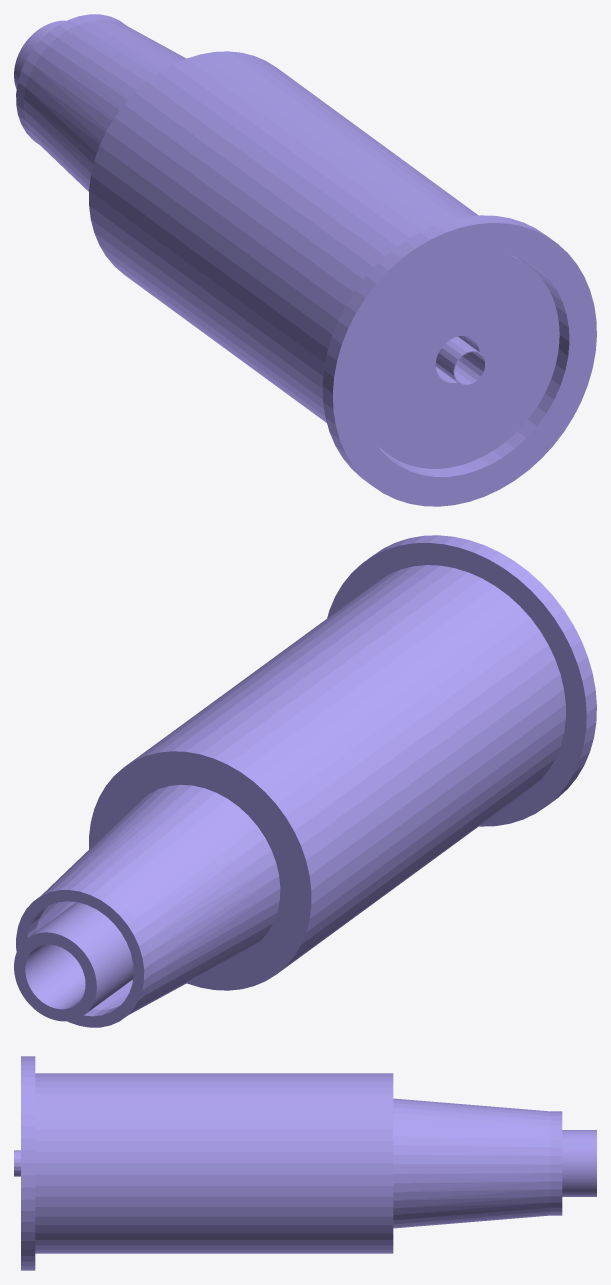
The model's file is Lar-FCAL-SideA.glb.
3 renders of one model, top to bottom at view 1: azimuth 30°, elevation 25°; view 2: azimuth 150°, elevation 25°; view 3: azimuth 270°, elevation 25°, orthographic. The views are drawn at different scales.
Visible parts, largest first — view 1: null; view 2: null; view 3: null.
Boxes of the visible parts, x1,y1,x2,y2 form: null: (14, 14, 596, 506); null: (14, 535, 596, 1027); null: (14, 1056, 596, 1270).
Bounding box in the file's own units: 1.14 × 1.14 × 3.1.
